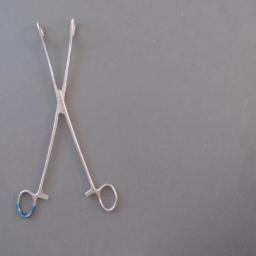Sponge Forceps: (11, 12, 121, 224)
